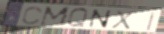C: (21, 6, 44, 26)
I: (145, 11, 157, 32)
M: (39, 6, 73, 28)
N: (88, 9, 112, 29)
Q: (66, 7, 90, 29)
X: (110, 9, 136, 31)
